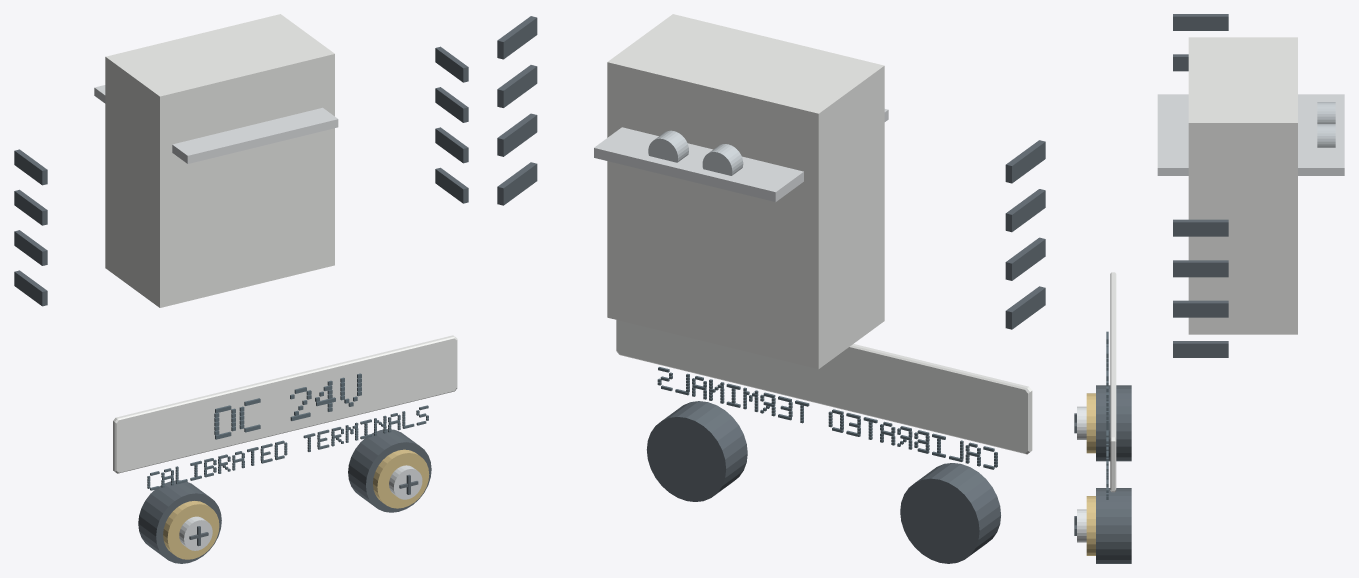
The model's file is dcSupply.glb.
The picture shows the model from 3 angles, left to right: view 1: azimuth 30°, elevation 25°; view 2: azimuth 150°, elevation 25°; view 3: azimuth 270°, elevation 25°; orthographic projection. The views are drawn at different scales.
Visible parts, largest first — view 1: dcSupply-detailed; view 2: dcSupply-detailed; view 3: dcSupply-detailed.
Boxes of the visible parts, x1,y1,x2,y2 form: dcSupply-detailed: [14, 14, 468, 563]; dcSupply-detailed: [497, 14, 1045, 563]; dcSupply-detailed: [1074, 14, 1344, 563].
Bounding box in the file's own units: 2.03 × 1.95 × 1.11.
